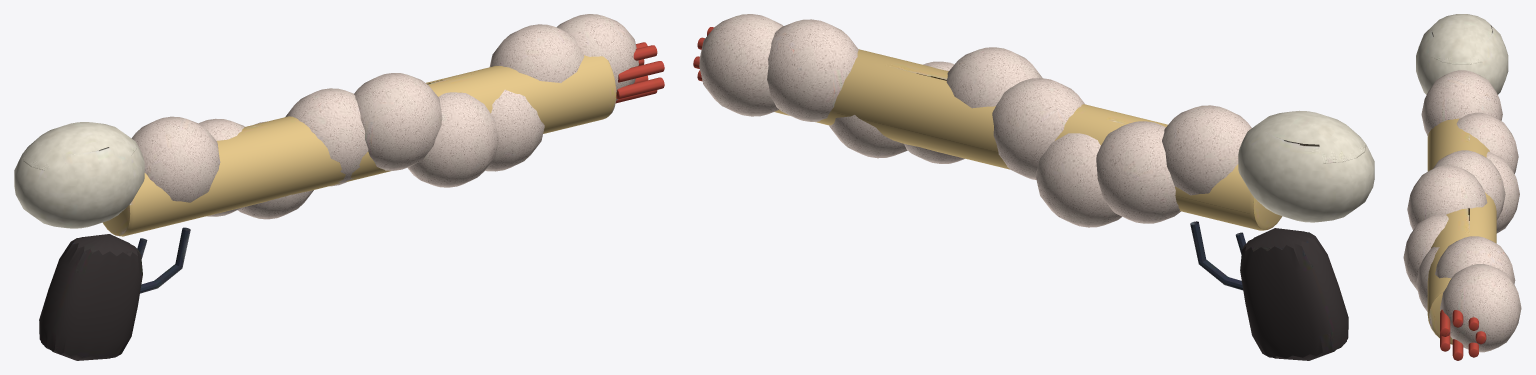
Rendered from anemonegun.glb.
3 views of the same model, side by side, from view 1: azimuth 30°, elevation 25°; view 2: azimuth 150°, elevation 25°; view 3: azimuth 270°, elevation 25° (orthographic). The views are drawn at different scales.
Parts seen in each view (by area): view 1: core, shell, grip, coral4, coral5, coral0, coral3, coral7, coral6, coral8, coral2, coral1 (+3 smaller); view 2: core, shell, grip, coral7, coral1, coral8, coral3, coral0, coral2, coral4, coral6, trigger_guard (+1 smaller); view 3: shell, coral8, core, coral0, coral4, coral7, coral1, coral3, coral5, coral2, coral6, polyp3 (+6 smaller).
Part boxes in pixels (x1=…): core: x1=103, y1=55, x2=616, y2=236; shell: x1=14, y1=122, x2=144, y2=228; grip: x1=39, y1=234, x2=142, y2=360; coral4: x1=354, y1=73, x2=442, y2=170; coral5: x1=407, y1=92, x2=498, y2=187; coral0: x1=131, y1=116, x2=220, y2=202; coral3: x1=285, y1=88, x2=368, y2=186; coral7: x1=489, y1=24, x2=584, y2=82; coral6: x1=485, y1=89, x2=544, y2=171; coral8: x1=556, y1=14, x2=638, y2=100; coral2: x1=238, y1=121, x2=313, y2=219; coral1: x1=199, y1=118, x2=244, y2=216; core: x1=774, y1=49, x2=1282, y2=230; shell: x1=1238, y1=110, x2=1374, y2=222; grip: x1=1240, y1=228, x2=1348, y2=360; coral7: x1=767, y1=19, x2=858, y2=121; coral1: x1=1096, y1=121, x2=1180, y2=223; coral8: x1=699, y1=14, x2=783, y2=116; coral3: x1=992, y1=78, x2=1085, y2=179; coral0: x1=1162, y1=105, x2=1251, y2=195; coral2: x1=1036, y1=133, x2=1121, y2=227; coral4: x1=946, y1=47, x2=1042, y2=108; coral6: x1=829, y1=115, x2=907, y2=158; trigger_guard: x1=1190, y1=221, x2=1243, y2=290; shell: x1=1416, y1=14, x2=1508, y2=94; coral8: x1=1440, y1=264, x2=1521, y2=352; core: x1=1427, y1=118, x2=1496, y2=344; coral0: x1=1421, y1=70, x2=1502, y2=136; coral4: x1=1407, y1=165, x2=1487, y2=229; coral7: x1=1435, y1=236, x2=1515, y2=284; coral1: x1=1456, y1=112, x2=1518, y2=173; coral3: x1=1433, y1=150, x2=1505, y2=219; coral5: x1=1403, y1=215, x2=1448, y2=290; coral2: x1=1486, y1=151, x2=1519, y2=233; coral6: x1=1416, y1=247, x2=1439, y2=311; polyp3: x1=1440, y1=309, x2=1450, y2=336.
Size of the model in its own units: 0.4138 by 0.1457 by 0.0754.
1 material, 1 textured.
